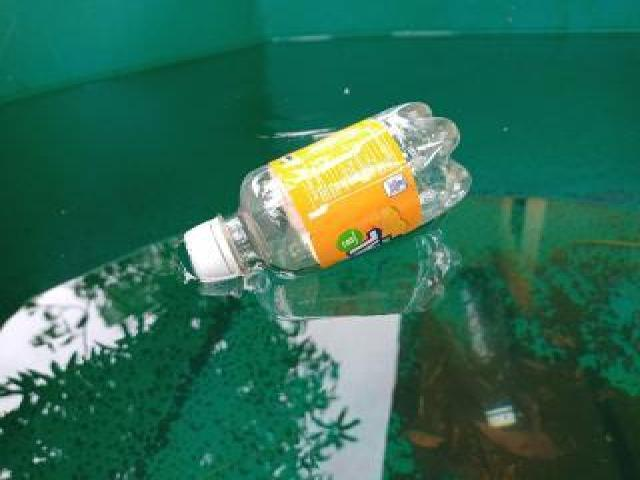Bottle: (181, 101, 477, 286)
